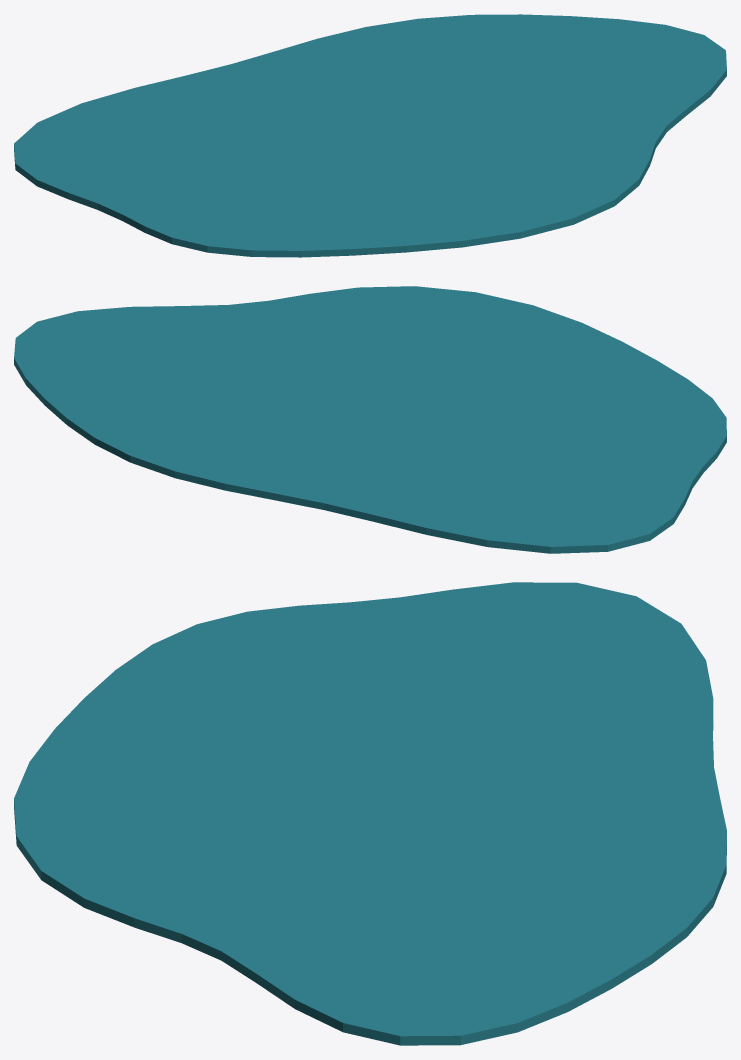
File: SM_WaterPuddle.glb
3 views of the same model, one above another, from view 1: azimuth 30°, elevation 25°; view 2: azimuth 150°, elevation 25°; view 3: azimuth 270°, elevation 25° (orthographic). The views are drawn at different scales.
Visible parts, largest first — view 1: SM_WaterPuddle; view 2: SM_WaterPuddle; view 3: SM_WaterPuddle.
Boxes of the visible parts, x1,y1,x2,y2 form: SM_WaterPuddle: [14, 14, 726, 257]; SM_WaterPuddle: [14, 286, 726, 553]; SM_WaterPuddle: [14, 582, 726, 1045].
Size of the model in its own units: 2.59 by 0.025 by 1.72.
